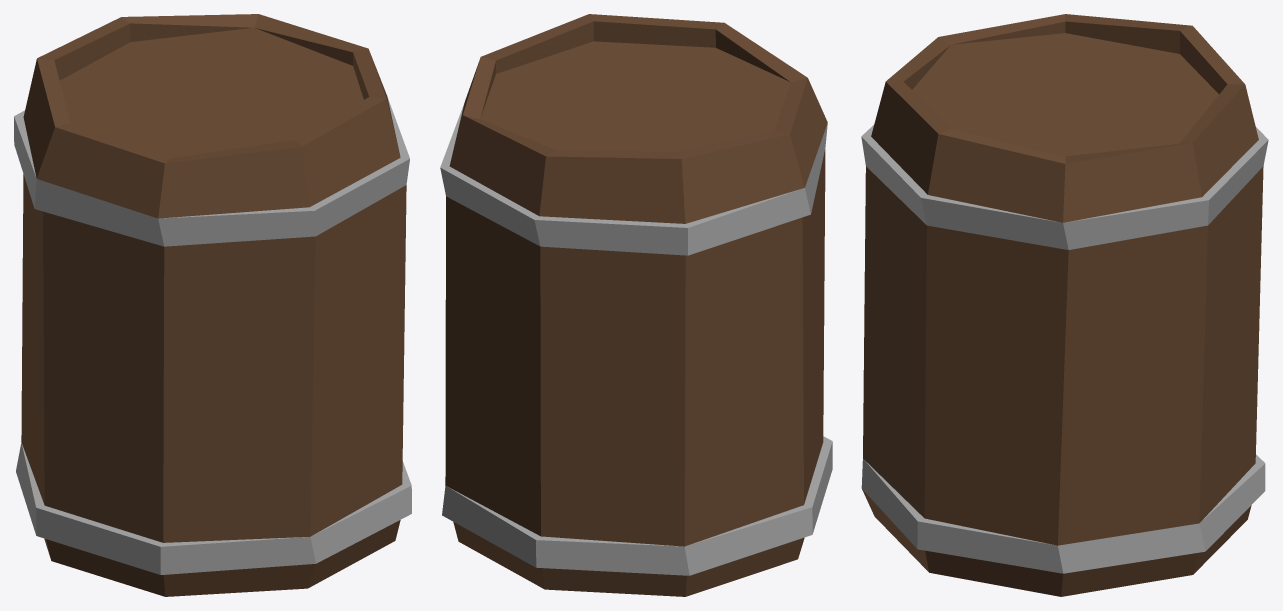
Rendered from Barrel_mat.fbx.
3 views of the same model, side by side, from view 1: azimuth 30°, elevation 25°; view 2: azimuth 150°, elevation 25°; view 3: azimuth 270°, elevation 25° (orthographic).
Visible parts, largest first — view 1: Barrel_mat; view 2: Barrel_mat; view 3: Barrel_mat.
Boxes of the visible parts, x1,y1,x2,y2 form: Barrel_mat: (14, 14, 411, 596); Barrel_mat: (440, 14, 832, 596); Barrel_mat: (861, 14, 1268, 596).
Size of the model in its own units: 0.5902 by 0.7106 by 0.5958.
